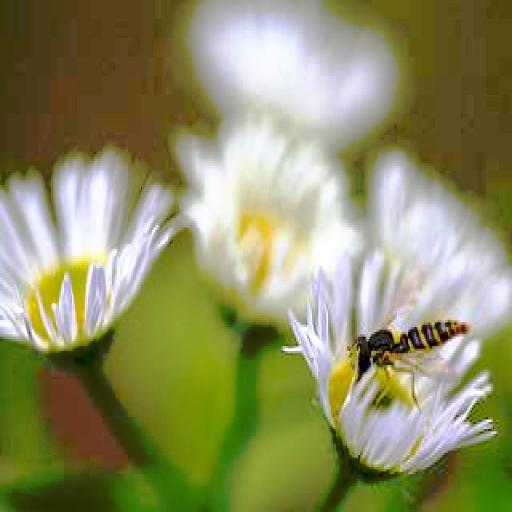daisy: (298, 261, 476, 476), (192, 135, 344, 315)
